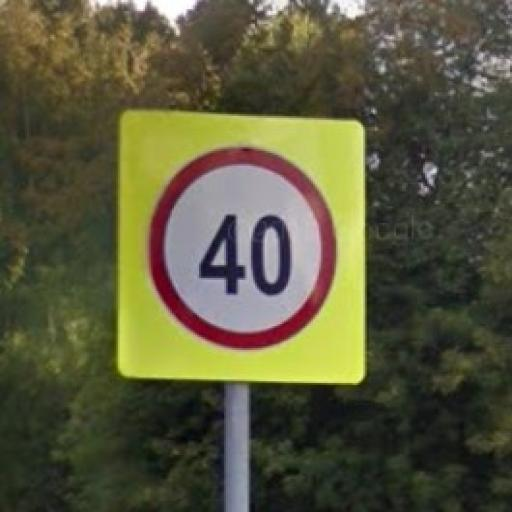traffic_sign: (146, 145, 343, 357)
